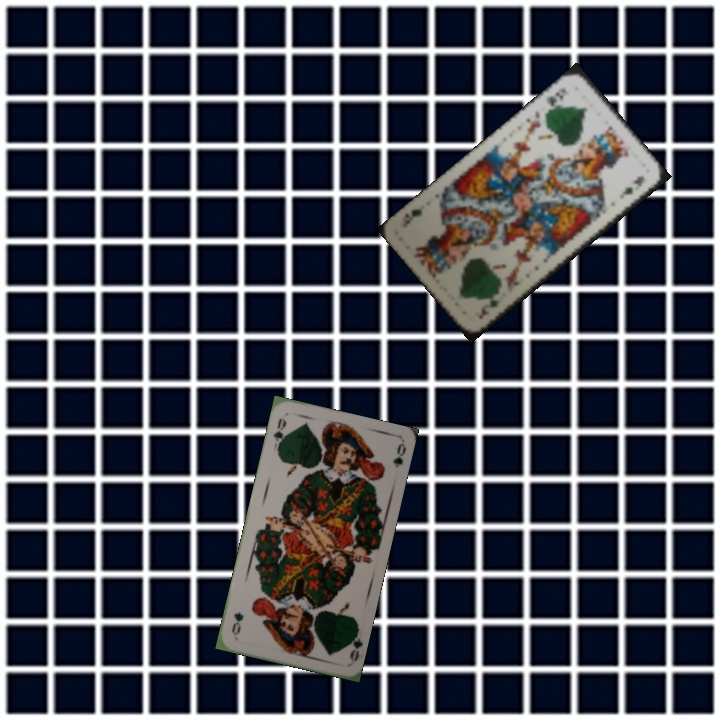GK: (472, 289, 502, 322), (543, 84, 571, 115)
GO: (343, 624, 364, 665), (269, 414, 289, 453)
